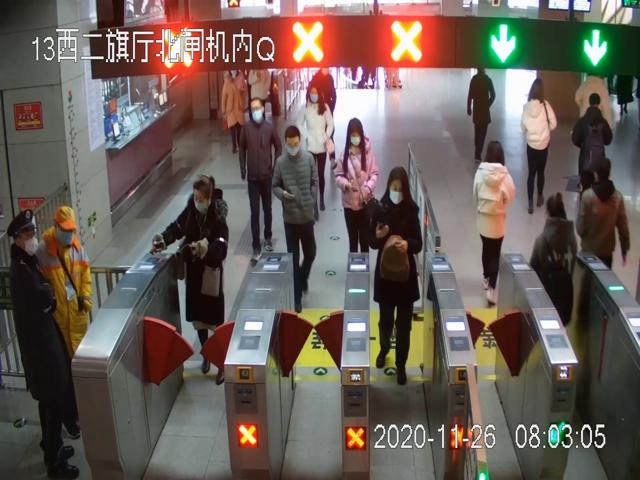person: (7, 208, 83, 480), (153, 175, 230, 384), (35, 205, 93, 438), (368, 166, 424, 384), (272, 126, 319, 315), (473, 141, 517, 305), (239, 99, 282, 262), (335, 117, 378, 252), (295, 85, 335, 221), (521, 76, 557, 215)
